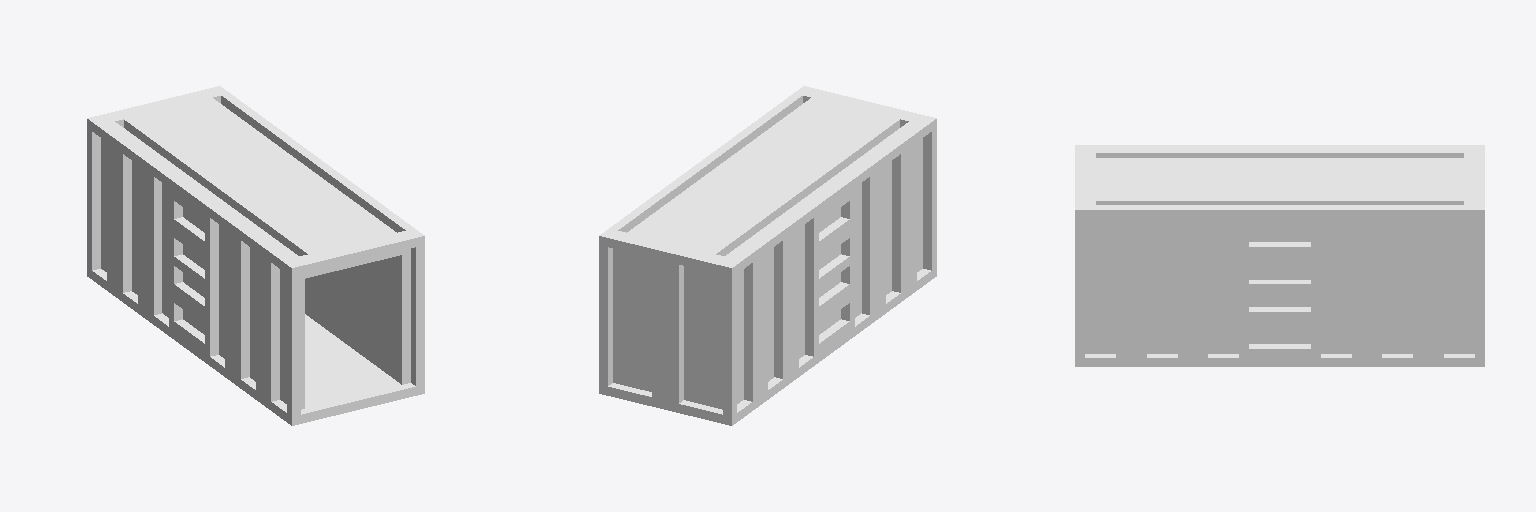
File: OpenContainer.obj
3 renders of one model, left to right at view 1: azimuth 30°, elevation 25°; view 2: azimuth 150°, elevation 25°; view 3: azimuth 270°, elevation 25°, orthographic.
Visible parts, largest first — view 1: object 1; view 2: object 1; view 3: object 1.
Boxes of the visible parts, box(x1,y1,x2,y2) form: object 1: box(87, 86, 424, 425); object 1: box(599, 86, 936, 425); object 1: box(1075, 145, 1484, 366).
Size of the model in its own units: 1.5 by 1.7 by 4.